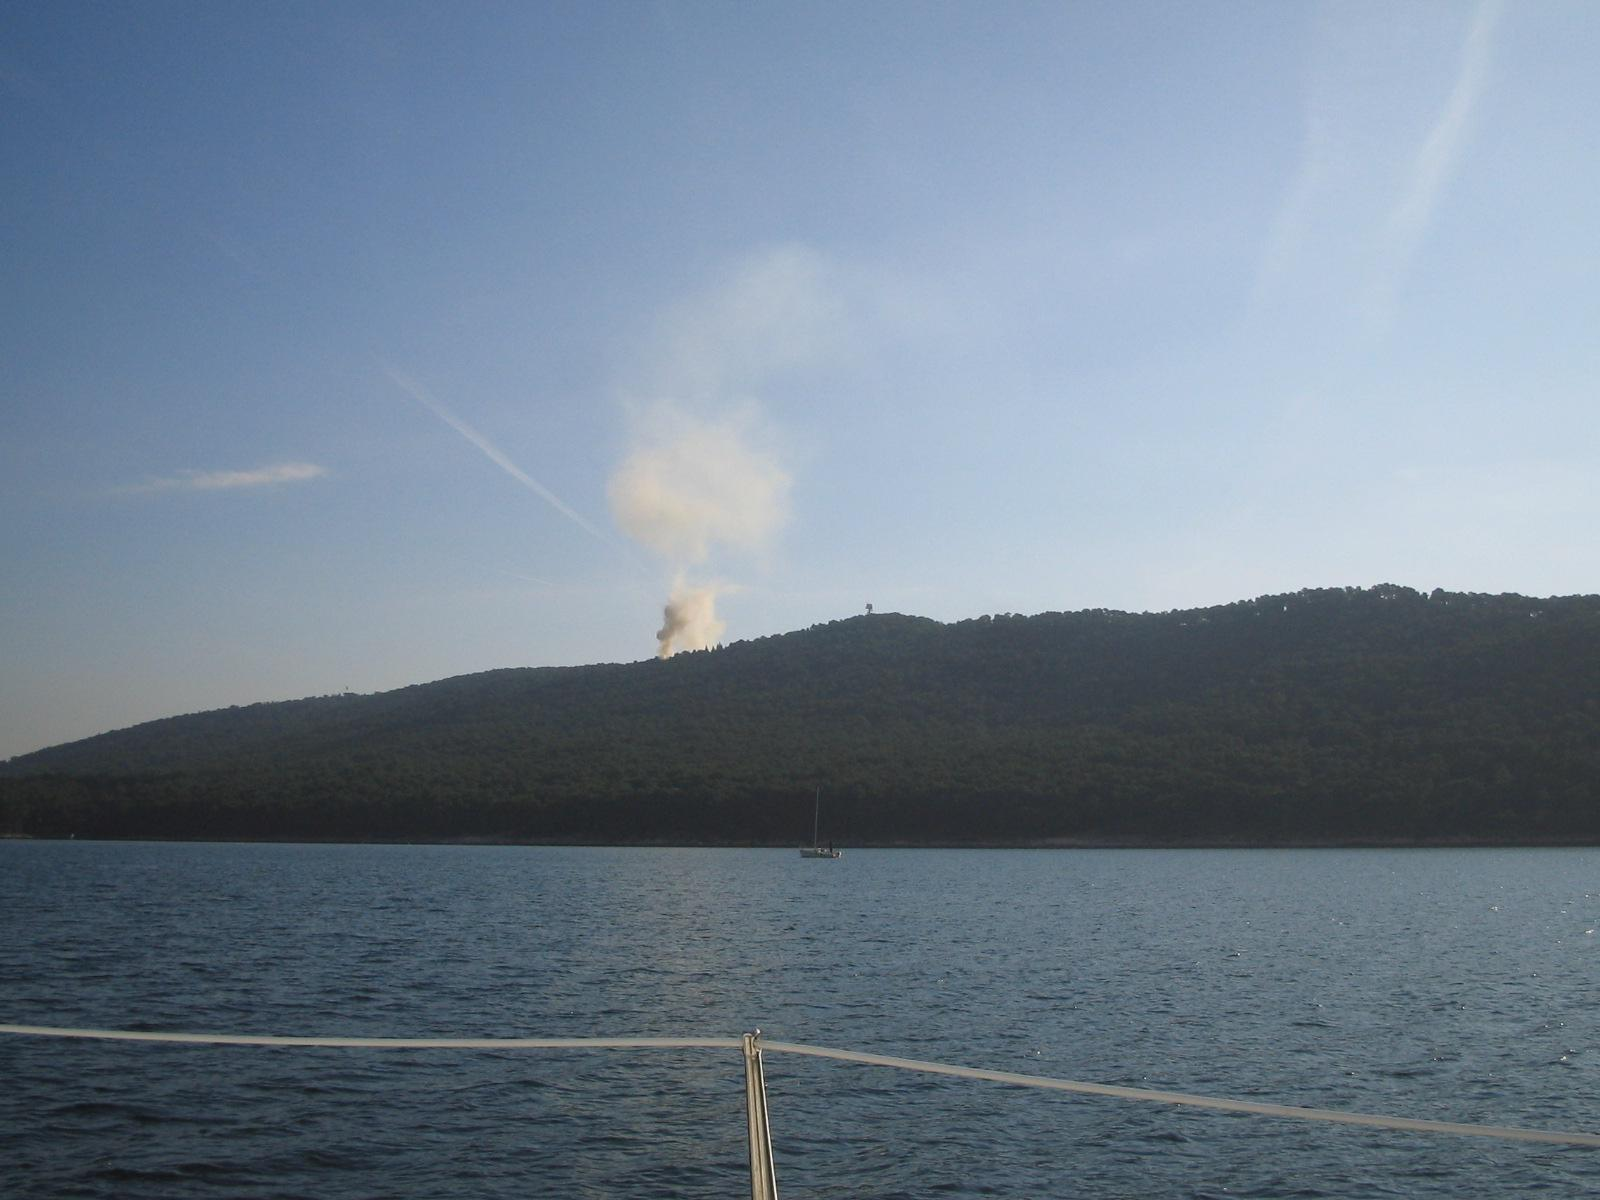Smoke: (601, 258, 815, 667)
